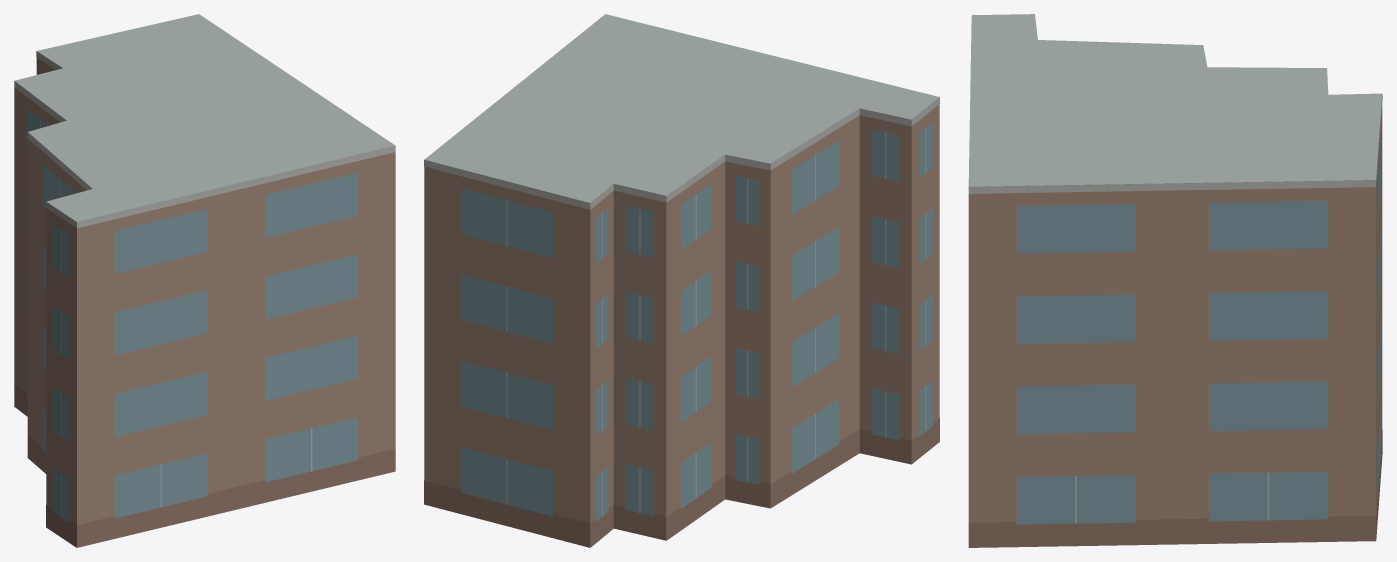
The model's file is survey-upis-33043050.glb.
3 views of the same model, side by side, from view 1: azimuth 30°, elevation 25°; view 2: azimuth 150°, elevation 25°; view 3: azimuth 270°, elevation 25° (orthographic). The views are drawn at different scales.
Parts seen in each view (by area): view 1: survey-upis-33043050.tmp; view 2: survey-upis-33043050.tmp; view 3: survey-upis-33043050.tmp.
Part boxes in pixels (x1,y1,x2,y2): survey-upis-33043050.tmp: (14, 14, 395, 547); survey-upis-33043050.tmp: (424, 14, 939, 547); survey-upis-33043050.tmp: (968, 14, 1382, 547).
Bounding box in the file's own units: 12.63 × 12.3 × 12.78.
